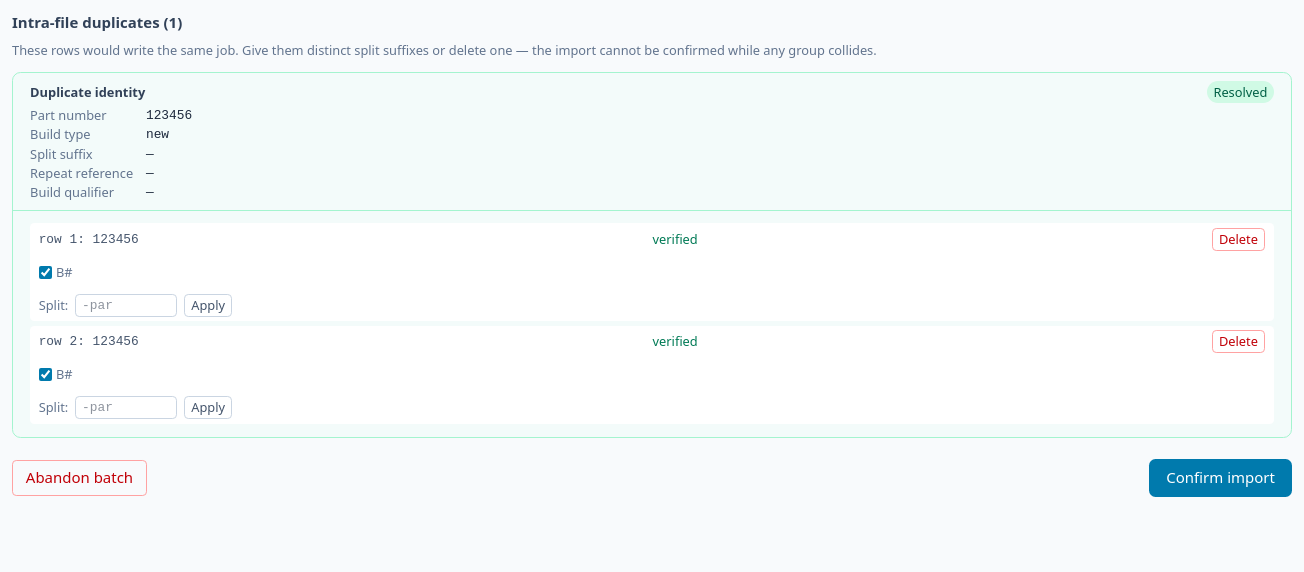
Test: BatchReviewPanel — Patch 06 confirm guard and refusal › any other 409 keeps the detail message
What coordinates should you click on to do the following:
click the button "Confirm import"
I would click on:
 (1221, 478)
Its box is left=1149, top=459, right=1292, bottom=497.
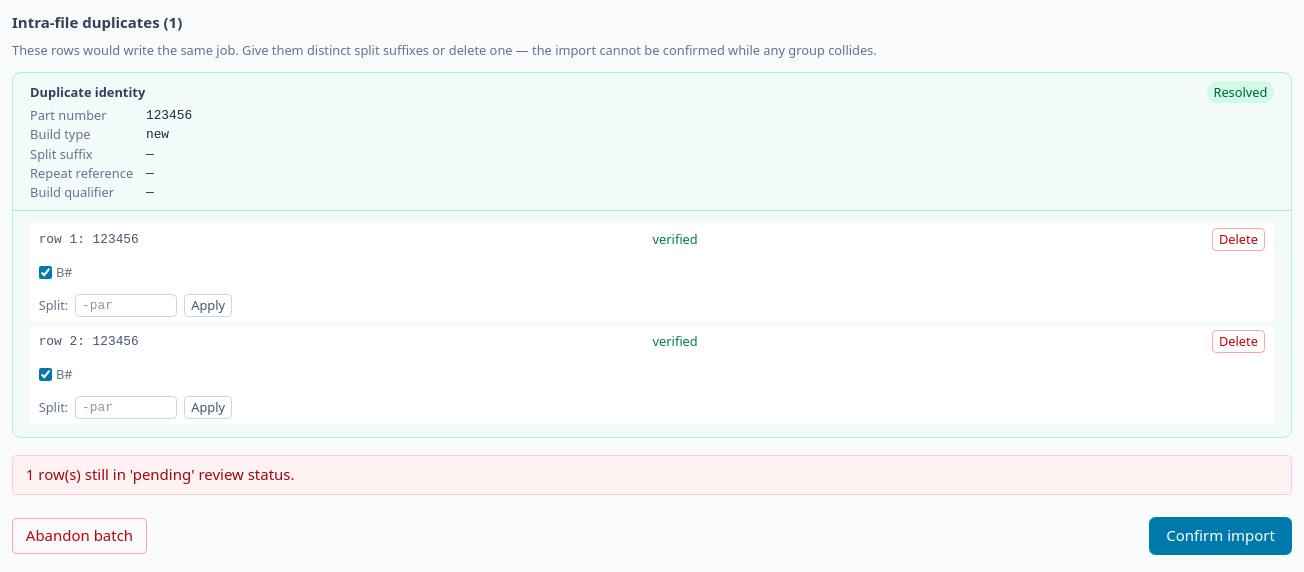
Expected: the text with test id "duplicate-group-state" reads "Resolved", left=1213, top=83, right=1268, bottom=101
Now the message "1 row(s) still in 'pending' review status." is shown, box left=12, top=455, right=1292, bottom=495
